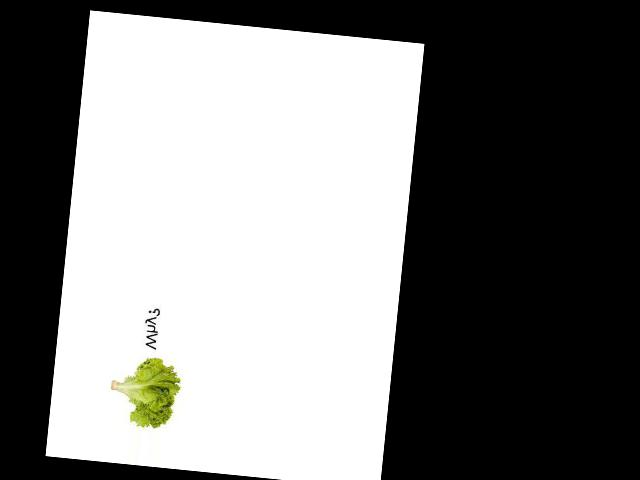lettuce: (101, 313, 193, 434)
